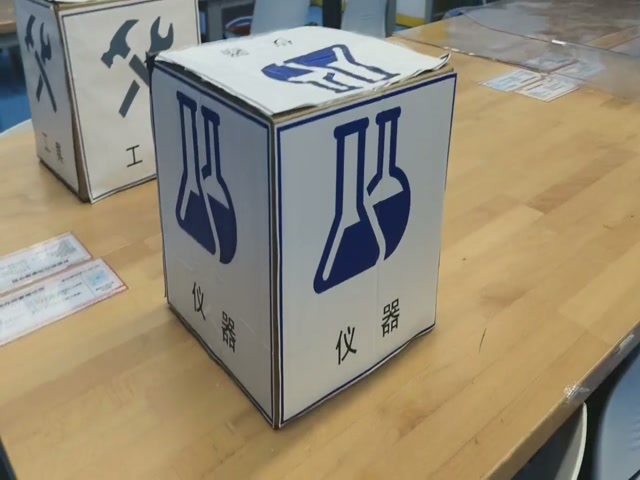Cube_ins: (152, 27, 455, 136)
